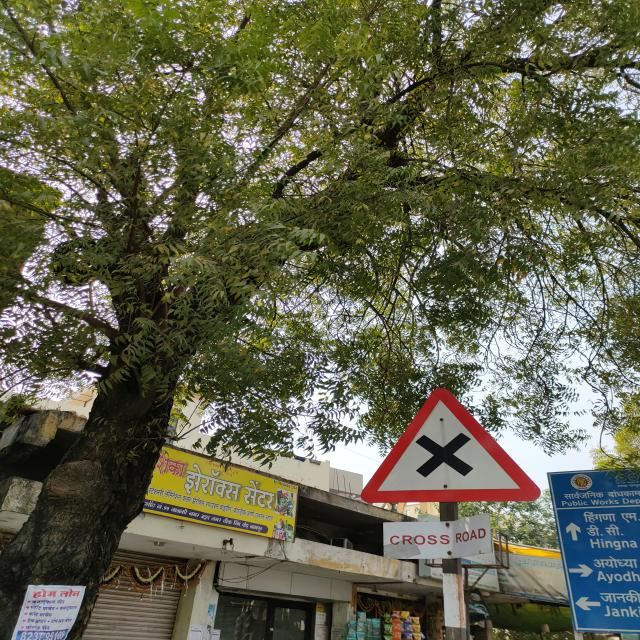CROSS_ROAD: (357, 386, 544, 511)
